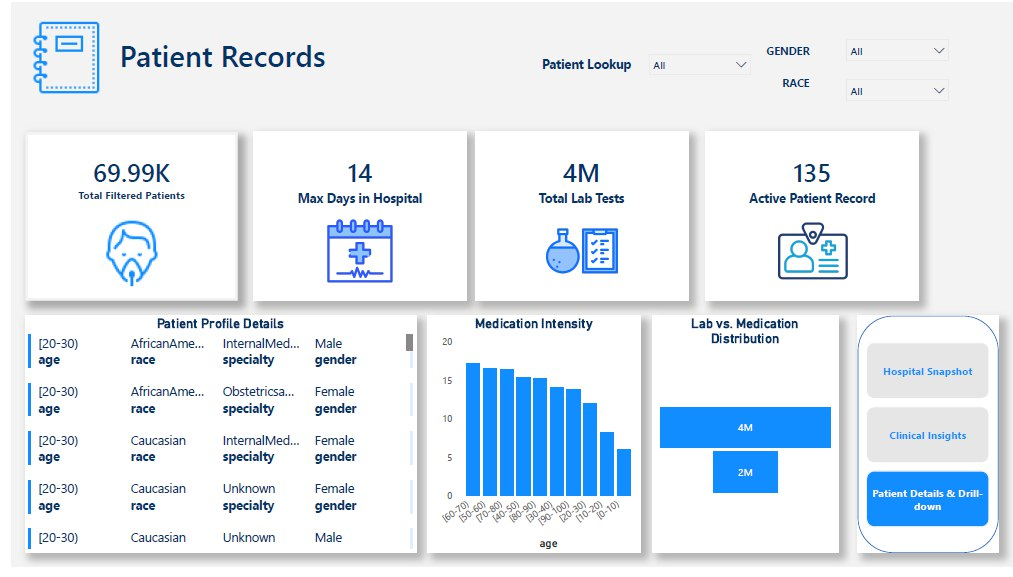

Layout of this report page (visuals, bound fields, positions):
{"tool":"powerbi","page":{"name":"Patient Details & Drill-down","canvas":[1280,720],"ordinal":2},"visuals":[{"type":"cardVisual","title":"Total Patient Encounters","fields":{"Data":["Count(hospital_project hospital_clean.patient_nbr)"]},"box":[16.8,164.6,272.1,216.7],"z":0},{"type":"shape","box":[1081.4,399.8,180,303.3],"z":0,"group":"g1"},{"type":"cardVisual","fields":{"Data":["Max(hospital_project hospital_clean.time_in_hospital)"]},"box":[309,164.4,272.1,216.9],"z":1000},{"type":"cardVisual","fields":{"Data":["Sum(hospital_project hospital_clean.num_lab_procedures)"]},"box":[592.4,164.4,272.1,216.9],"z":2000},{"type":"multiRowCard","title":"Patient Profile Details","fields":{"Values":["hospital_project hospital_clean.age","hospital_project hospital_clean.race","hospital_project hospital_clean.specialty","hospital_project hospital_clean.gender"]},"box":[17,399.7,500.3,303.3],"z":4000},{"type":"slicer","fields":{"Values":["hospital_project hospital_clean.gender"]},"box":[1055.9,36.9,151.7,51],"z":6000},{"type":"slicer","fields":{"Values":["hospital_project hospital_clean.race"]},"box":[1055.9,87.9,151.7,48.2],"z":7000},{"type":"textbox","box":[966.6,87.9,70.9,36.9],"z":8000},{"type":"textbox","box":[946.8,46.8,90.7,29.8],"z":9000},{"type":"textbox","box":[133.2,36.9,426.6,73.7],"z":10000},{"type":"image","box":[0,11.3,143.1,117.6],"z":11000},{"type":"group","id":"g1","title":"Group 1","box":[1081.4,399.8,180,303.3],"z":12000},{"type":"cardVisual","fields":{"Data":["Min(hospital_project hospital_clean.patient_nbr)"]},"box":[887.2,164.4,272,216.9],"z":12001},{"type":"columnChart","title":"Medication Intensity","fields":{"Y":["Avg(hospital_project hospital_clean.num_medications)"],"Category":["hospital_project hospital_clean.age"]},"box":[531.5,399.7,272.1,303.3],"z":12002},{"type":"funnel","title":"Lab vs. Medication Distribution","fields":{"Y":["Sum(hospital_project hospital_clean.num_lab_procedures)","Sum(hospital_project hospital_clean.num_medications)"]},"box":[819.2,399.7,236.7,303.3],"z":12003},{"type":"slicer","fields":{"Values":["hospital_project hospital_clean.patient_nbr"]},"box":[803.6,55.3,151.7,51],"z":12004},{"type":"textbox","box":[667.6,62.4,133.2,35.4],"z":12005},{"type":"pageNavigator","box":[1092.1,434.1,157.3,238.1],"z":13000,"group":"g1"}]}

Visuals, with their boxes in screenshot pixels (x1, y1, x2, y2), scaled from the page's 1280x720 canvas onto the 1013x577 screenshot:
"Total Patient Encounters" cardVisual: (13,132,229,306)
shape: (856,320,998,563)
cardVisual - Max(hospital_project hospital_clean.time_in_hospital): (245,132,460,306)
cardVisual - Sum(hospital_project hospital_clean.num_lab_procedures): (469,132,684,306)
"Patient Profile Details" multiRowCard: (13,320,409,563)
slicer - hospital_project hospital_clean.gender: (836,30,956,70)
slicer - hospital_project hospital_clean.race: (836,70,956,109)
textbox: (765,70,821,100)
textbox: (749,38,821,61)
textbox: (105,30,443,89)
image: (0,9,113,103)
"Group 1" group: (856,320,998,563)
cardVisual - Min(hospital_project hospital_clean.patient_nbr): (702,132,917,306)
"Medication Intensity" columnChart: (421,320,636,563)
"Lab vs. Medication Distribution" funnel: (648,320,836,563)
slicer - hospital_project hospital_clean.patient_nbr: (636,44,756,85)
textbox: (528,50,634,78)
pageNavigator: (864,348,989,539)
